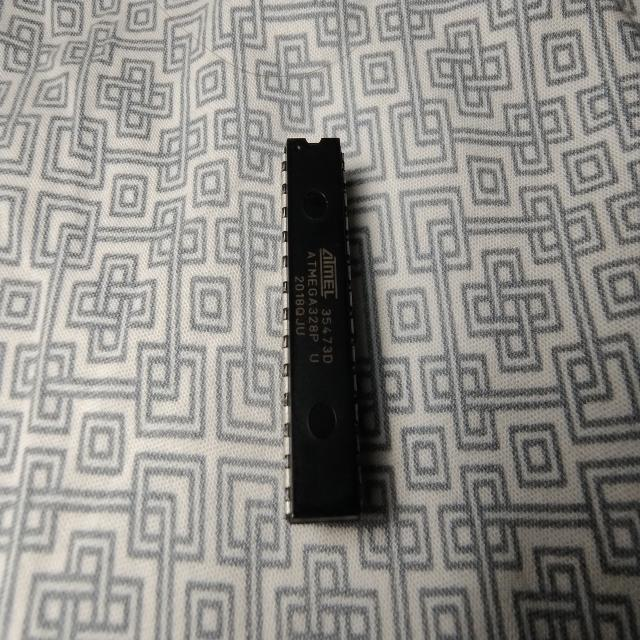atmega: (279, 134, 365, 526)
